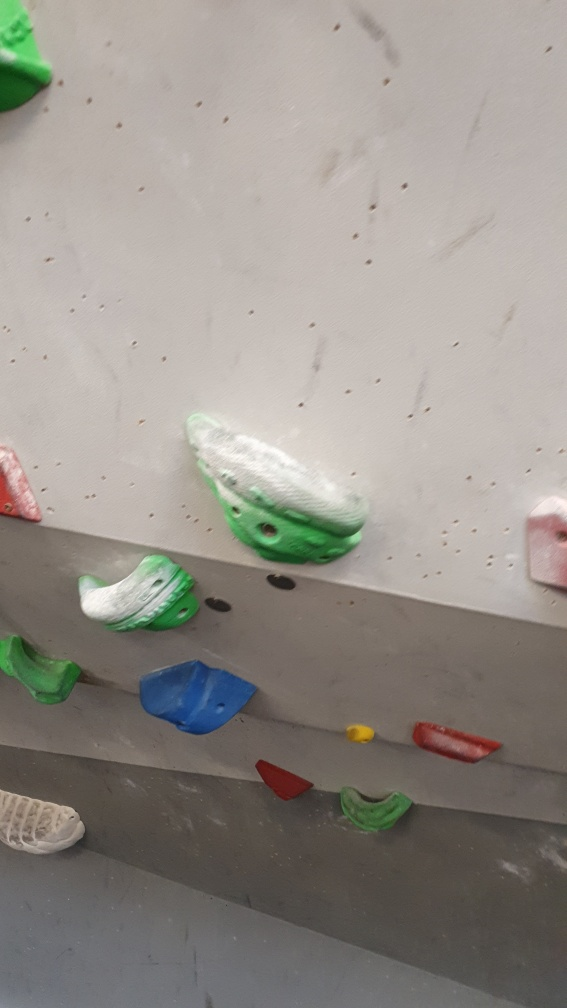Crimp: (415, 714, 504, 765)
Hand Start: (263, 568, 298, 594), (203, 592, 234, 618)
Jug: (186, 413, 373, 570), (72, 554, 204, 638), (1, 627, 83, 701), (334, 782, 419, 835)
Pinch: (138, 661, 259, 739)
